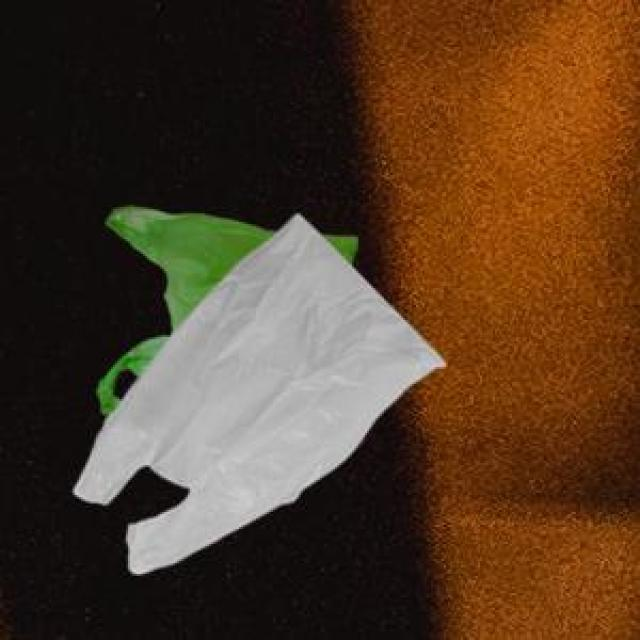plastic: (71, 181, 468, 592)
